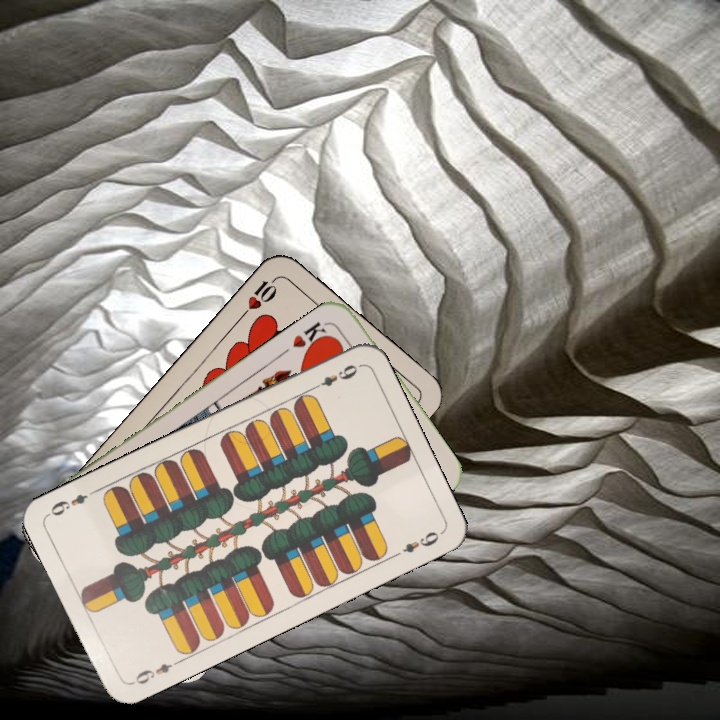E9: (307, 360, 362, 393), (127, 656, 183, 688)
H10: (236, 272, 281, 321)
HK: (288, 317, 333, 356)
